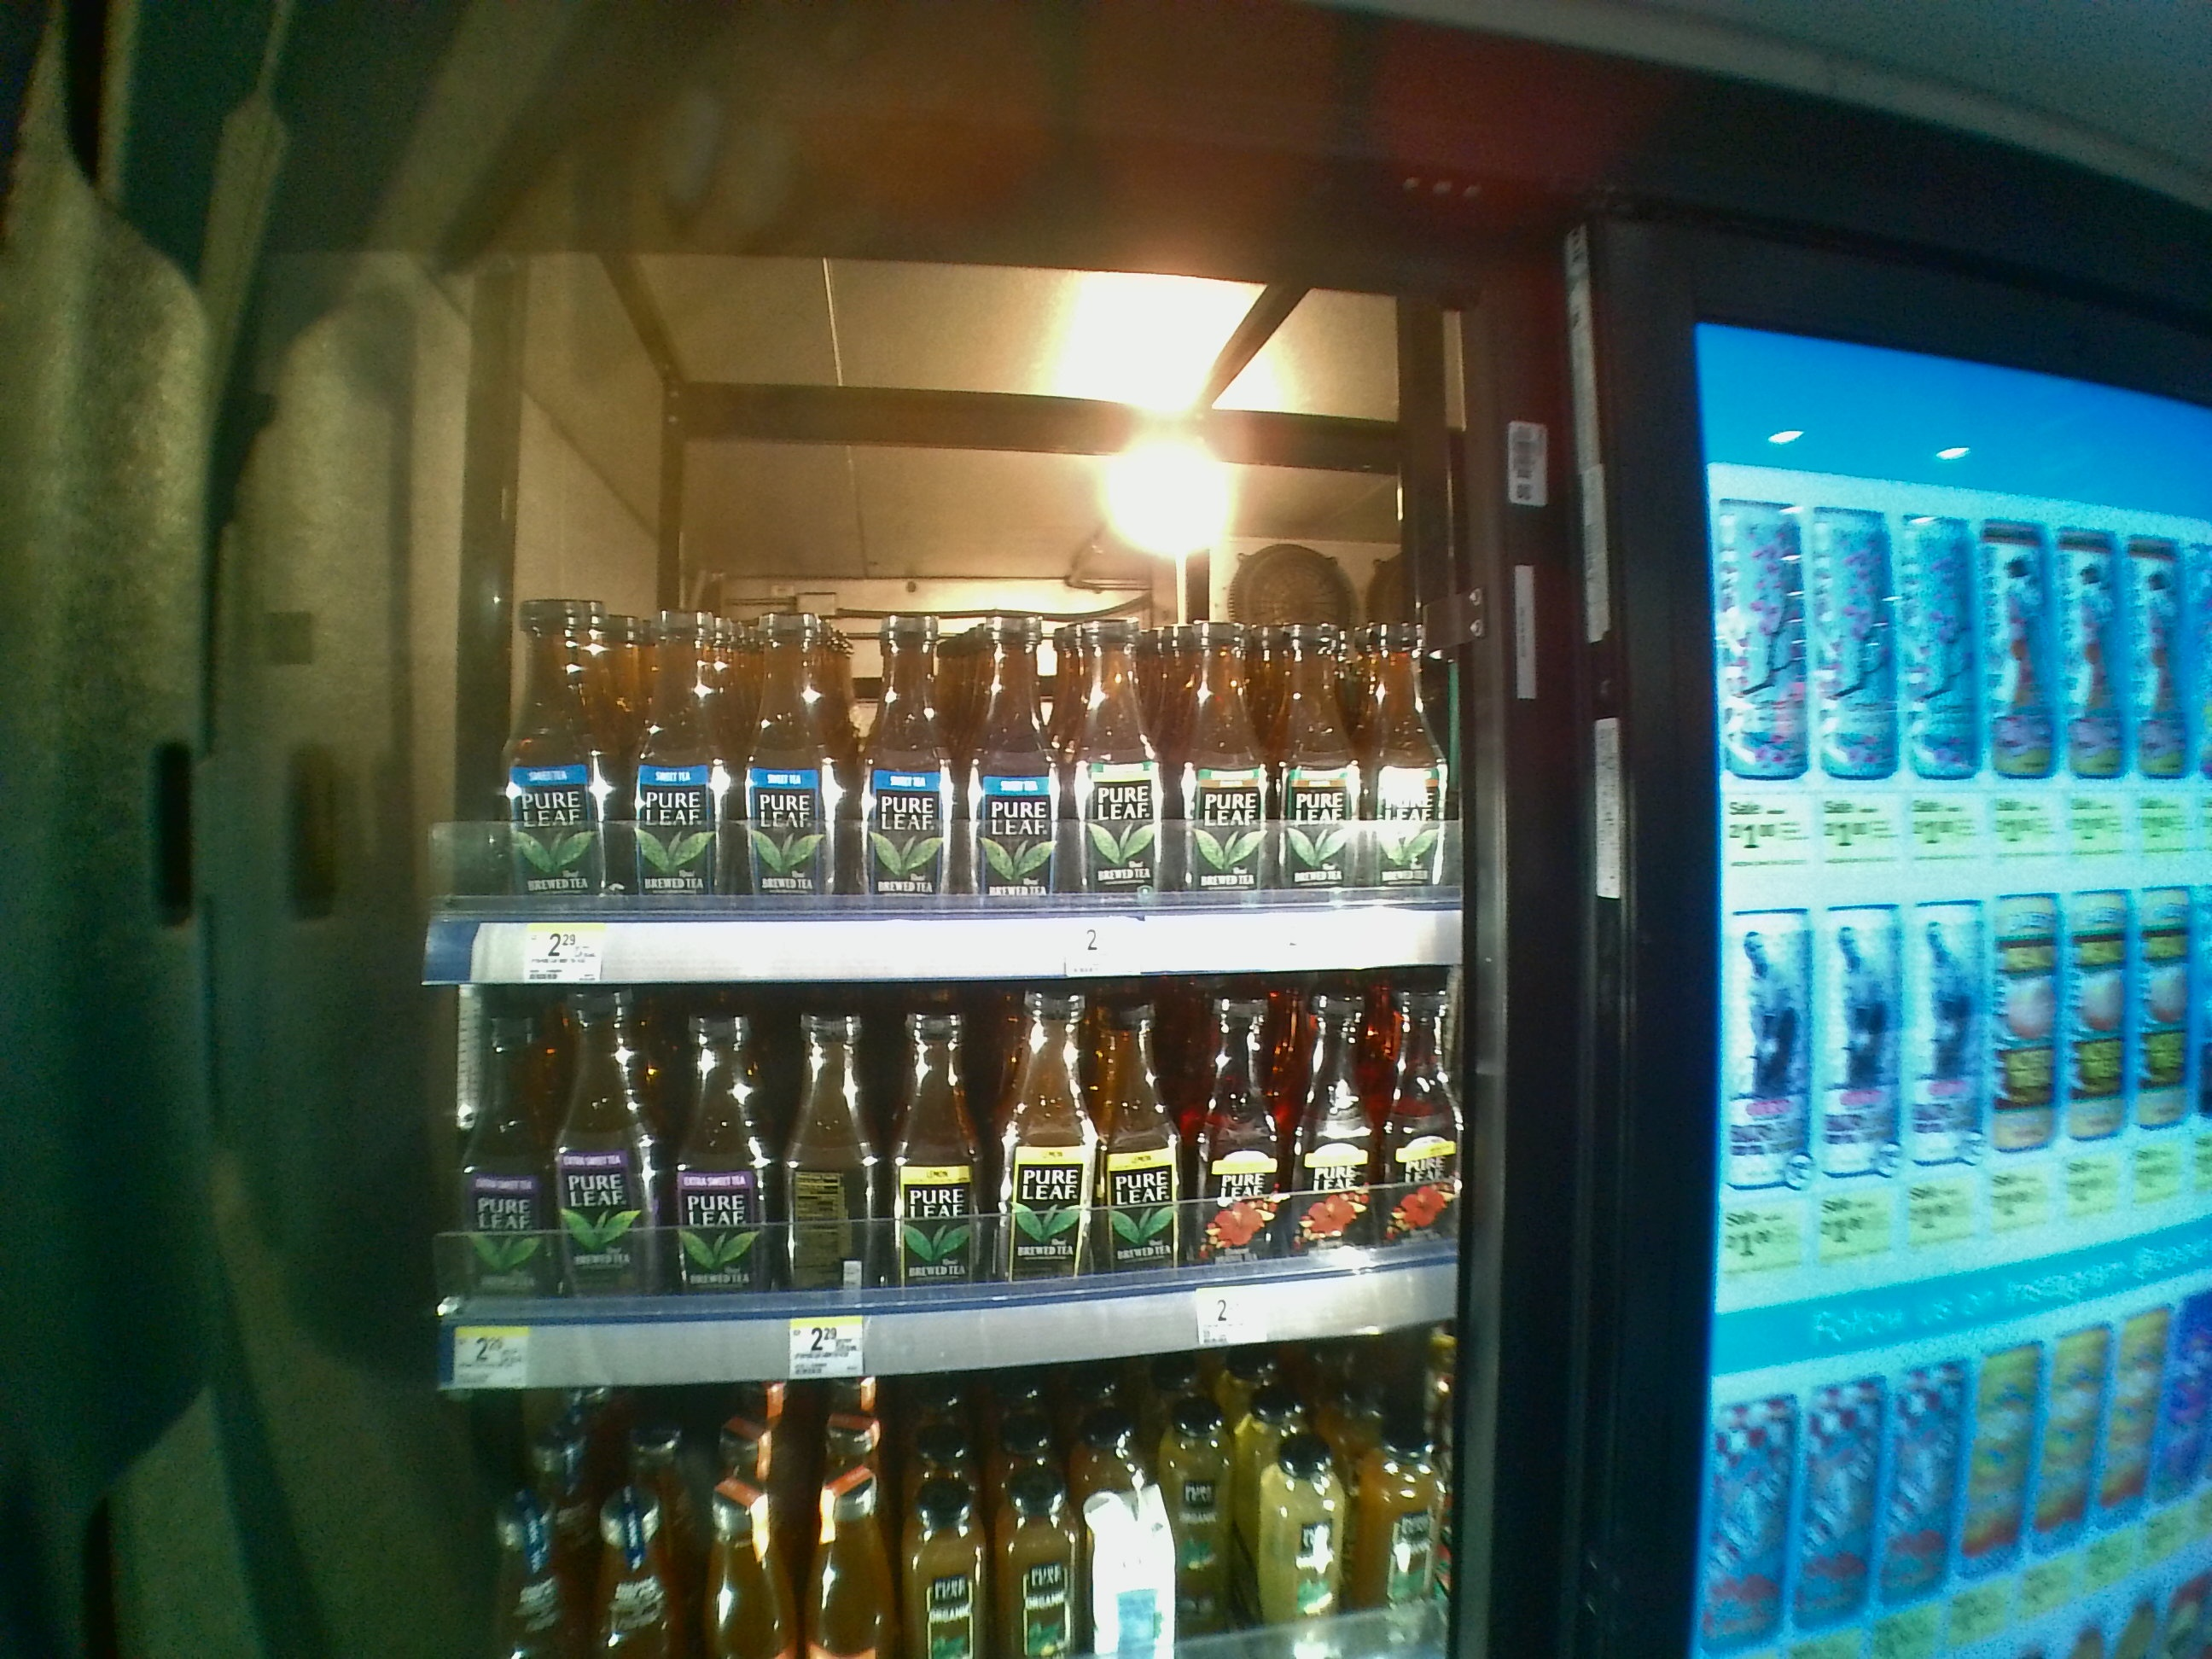shelf: (427, 301, 1453, 974), (421, 985, 1470, 1389)
